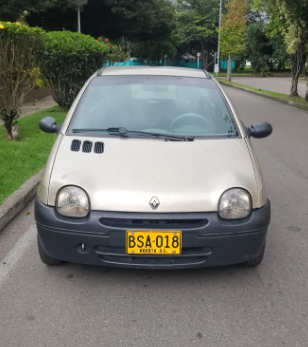placa: (126, 228, 183, 257)
